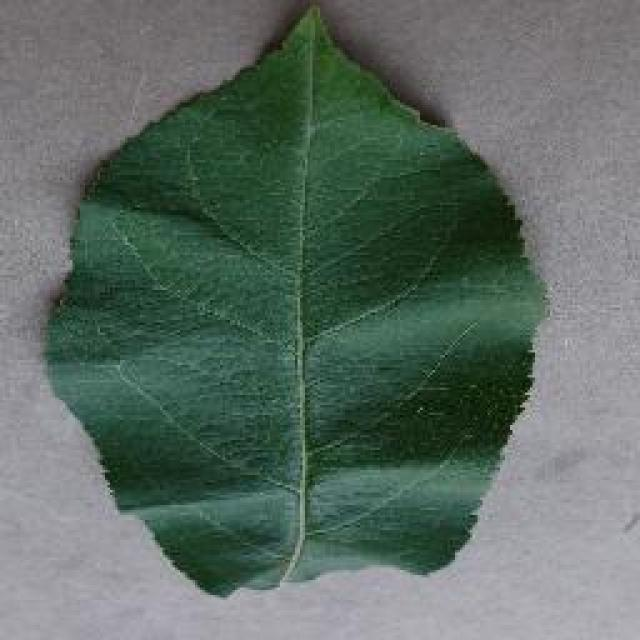apple healthy: (40, 0, 550, 598)
